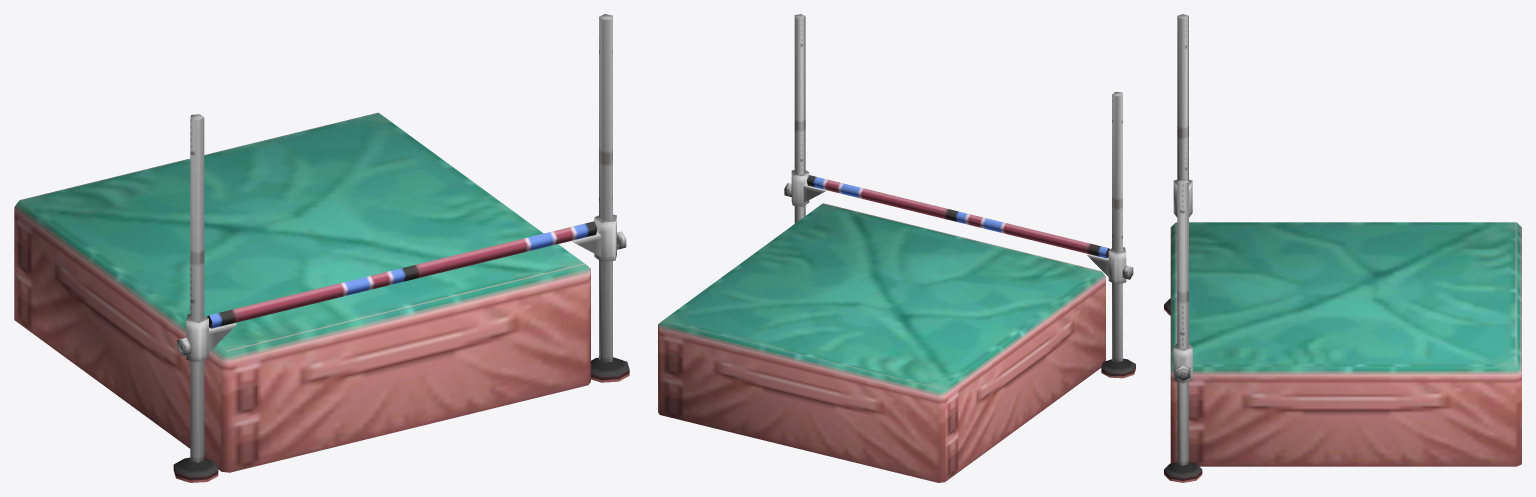
File: int_sch_mat_bedL.dae
3 renders of one model, left to right at view 1: azimuth 30°, elevation 25°; view 2: azimuth 150°, elevation 25°; view 3: azimuth 270°, elevation 25°, orthographic. The views are drawn at different scales.
Parts seen in each view (by area): view 1: int_sch_mat_bedL; view 2: int_sch_mat_bedL; view 3: int_sch_mat_bedL.
Part boxes in pixels (x1,y1,x2,y2): int_sch_mat_bedL: [14, 14, 629, 482]; int_sch_mat_bedL: [658, 14, 1135, 482]; int_sch_mat_bedL: [1164, 14, 1521, 482].
Bounding box in the file's own units: 63.62 × 48 × 53.05.
1 material, 1 textured.
